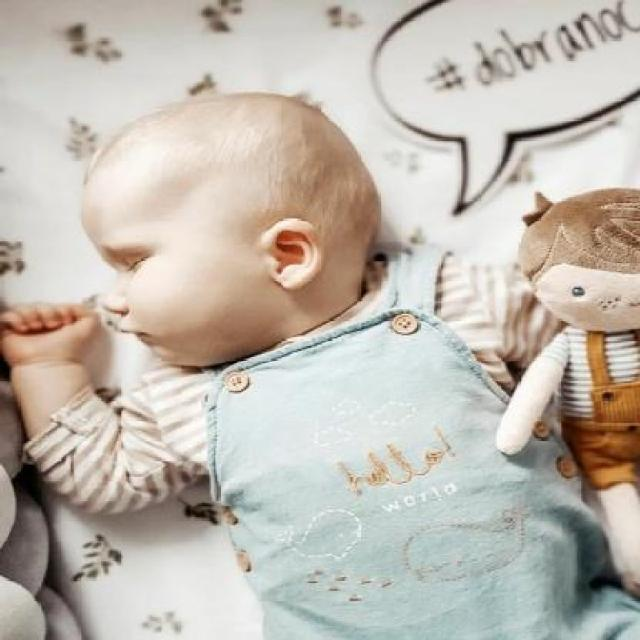baby: (6, 89, 640, 640)
